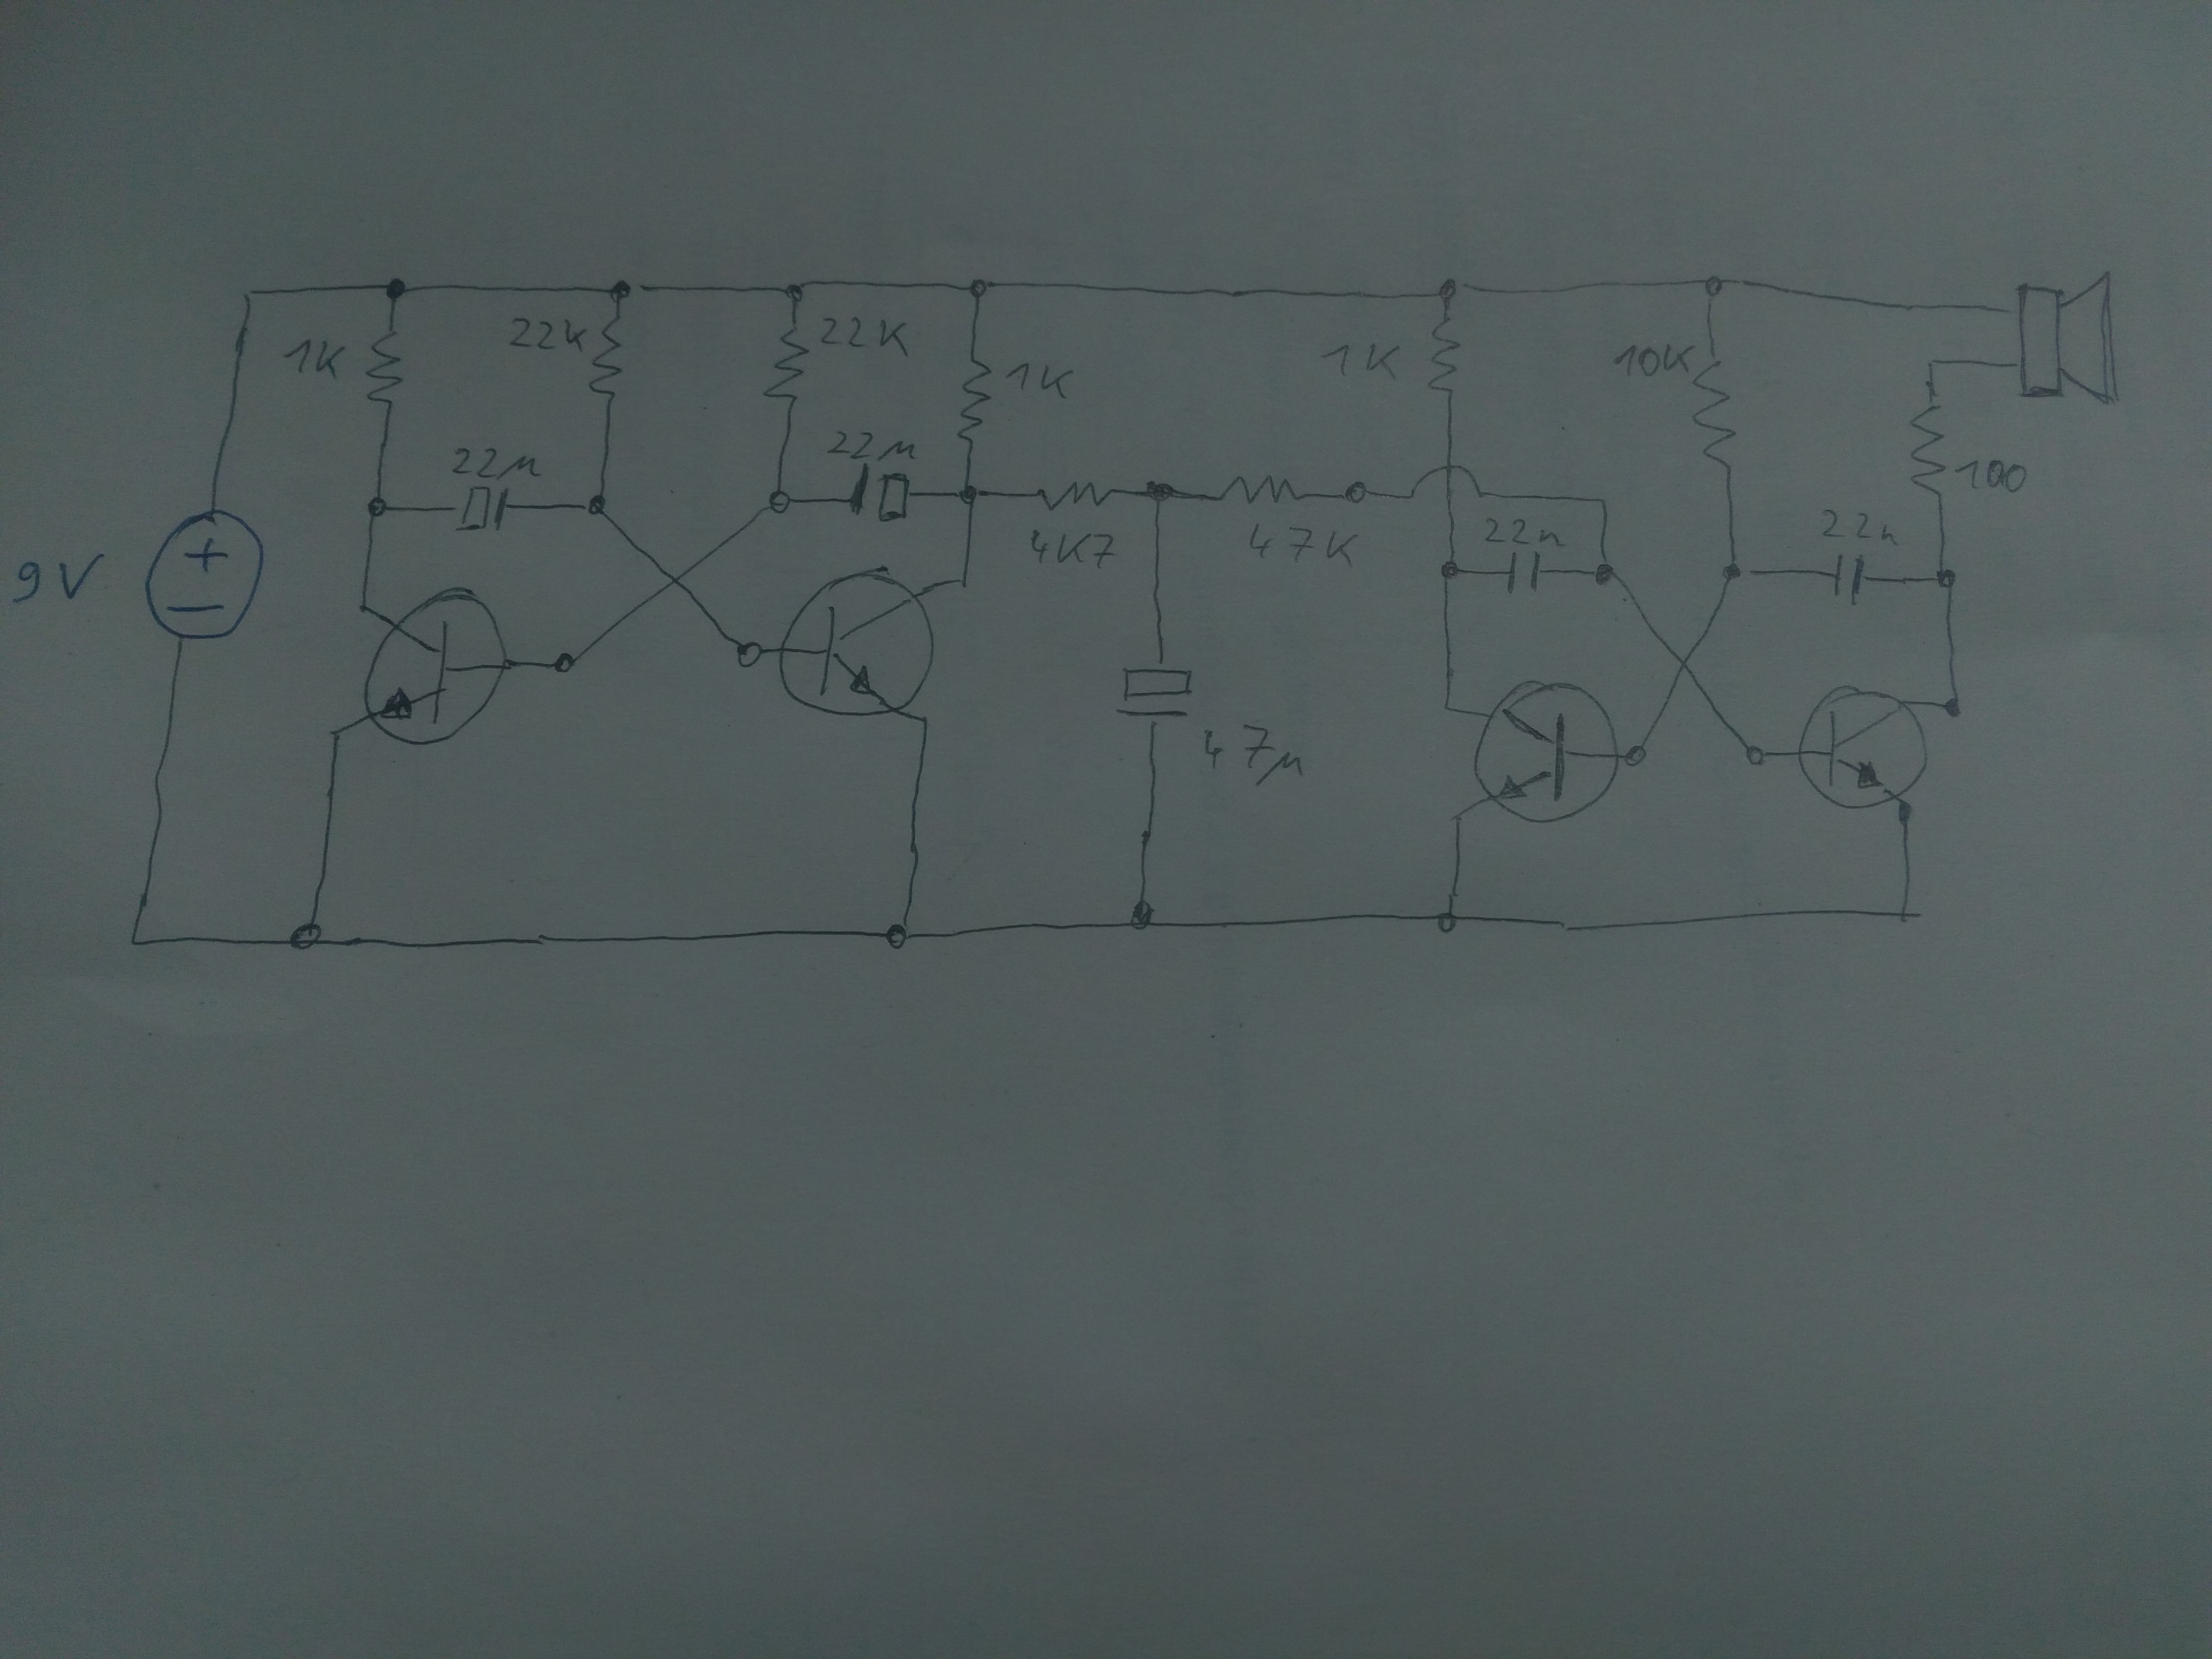capacitor.polarized: (1115, 666, 1195, 720), (848, 460, 911, 525), (455, 484, 512, 533)
capacitor.unpolarized: (1831, 551, 1869, 608), (1505, 545, 1543, 598)
crossover: (1406, 460, 1486, 505), (653, 559, 698, 605), (1663, 643, 1705, 687)
junction: (1122, 896, 1157, 938), (876, 918, 911, 955), (286, 918, 322, 951), (1433, 554, 1463, 587), (1433, 904, 1460, 941), (735, 640, 765, 671), (1716, 556, 1747, 586), (1343, 477, 1371, 511), (1590, 559, 1618, 592), (1742, 742, 1771, 772), (1620, 742, 1651, 770), (1932, 566, 1963, 594), (1940, 692, 1966, 725), (549, 650, 578, 678), (765, 488, 792, 518), (322, 723, 352, 751), (1890, 903, 1919, 931), (965, 274, 993, 301), (1698, 272, 1726, 300), (364, 493, 390, 523), (1433, 274, 1460, 303), (954, 483, 982, 509), (1146, 479, 1172, 505), (608, 279, 636, 303), (585, 491, 610, 519), (1590, 486, 1615, 514), (1919, 354, 1947, 378), (237, 286, 261, 312), (381, 277, 408, 301), (782, 282, 806, 308), (125, 924, 148, 951), (1444, 807, 1468, 831), (352, 591, 374, 617), (1435, 697, 1458, 720), (914, 713, 935, 732), (954, 572, 974, 591)
resistor: (1688, 355, 1742, 479), (1905, 397, 1949, 504), (759, 322, 813, 408), (585, 312, 625, 408), (954, 355, 995, 443), (1425, 308, 1463, 399), (364, 328, 404, 410), (1031, 479, 1122, 514), (1214, 472, 1305, 505)
speaker: (2010, 267, 2121, 410)
text: (1198, 720, 1305, 786), (1244, 521, 1362, 572), (7, 552, 108, 606), (817, 312, 913, 359), (1028, 526, 1118, 570), (451, 443, 547, 483), (1817, 505, 1904, 547), (1480, 514, 1571, 552), (1318, 340, 1402, 380), (826, 429, 918, 464), (1001, 359, 1076, 401), (1613, 342, 1696, 378), (507, 315, 585, 354), (1952, 457, 2029, 495), (284, 336, 347, 380)
transistor: (361, 584, 516, 749), (777, 565, 939, 721), (1467, 676, 1623, 828), (1791, 683, 1933, 814)
voltage.dc: (141, 505, 266, 643)
